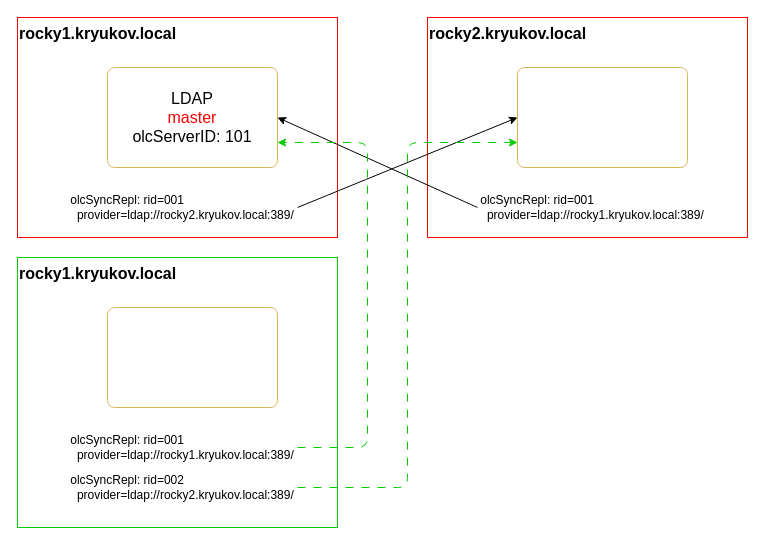
This 765x545 diagram has some shape labels left out. Here are the shapes that lost their labels. From the top down, the centre of each, then its label:
At point 602,117: "LDAP master olcServerID: 102".
At point 192,357: "LDAP slave olcServerID: 101".
